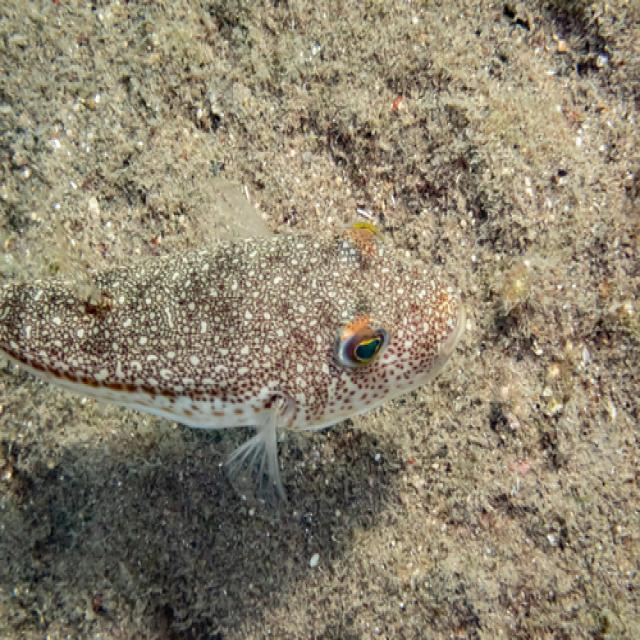Balik: (0, 224, 464, 496)
